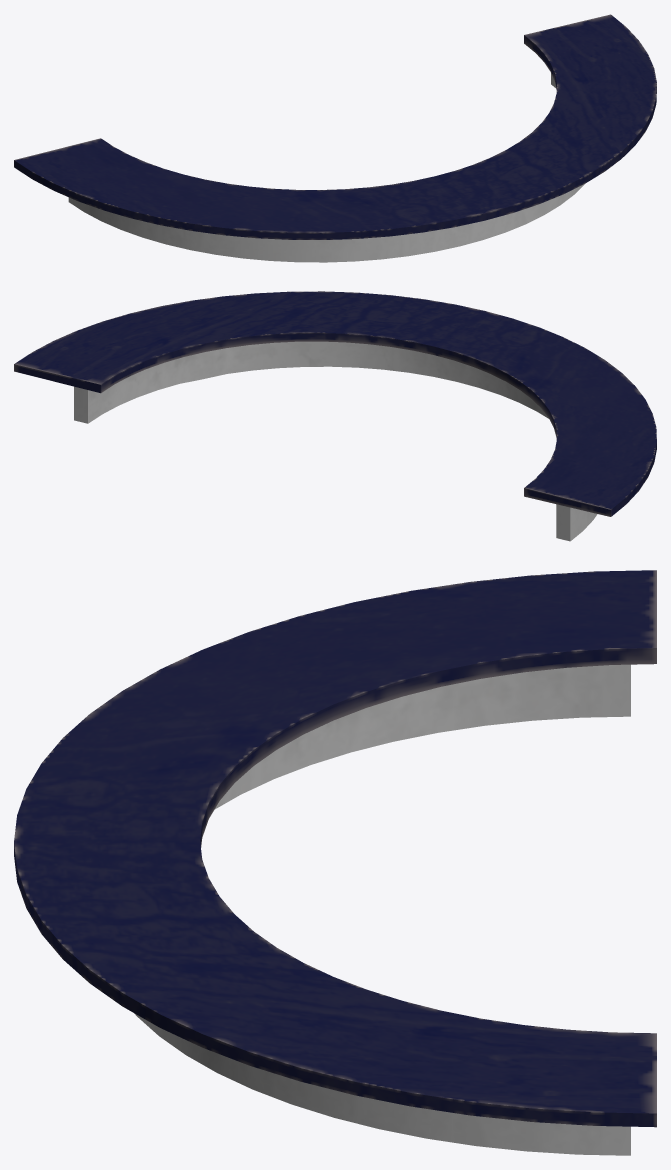
Rendered from Table_Round.fbx.
3 renders of one model, top to bottom at view 1: azimuth 30°, elevation 25°; view 2: azimuth 150°, elevation 25°; view 3: azimuth 270°, elevation 25°, orthographic. The views are drawn at different scales.
Parts seen in each view (by area): view 1: Circle.003; view 2: Circle.003; view 3: Circle.003.
Part boxes in pixels (x1,y1,x2,y2): Circle.003: (14, 14, 656, 262); Circle.003: (14, 291, 656, 541); Circle.003: (14, 570, 656, 1155).
Size of the model in its own units: 1536 by 121 by 768.
1 material, 1 textured.
